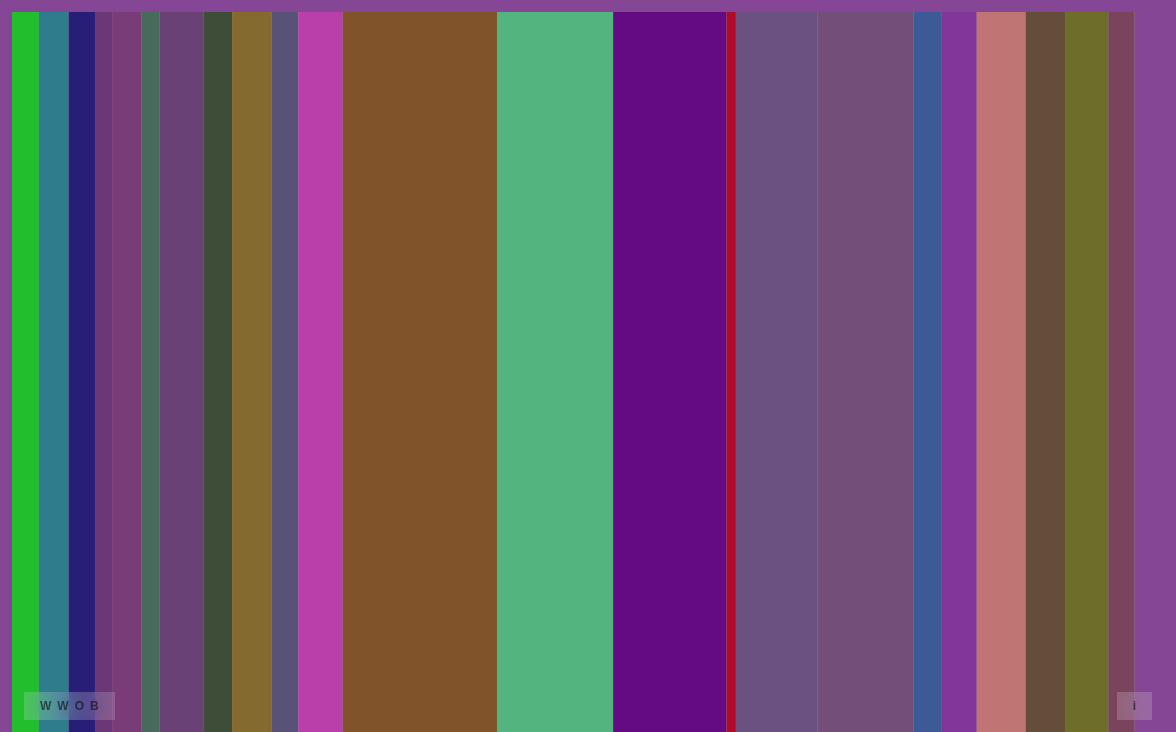
reader app › links the tour, before the run, on one line
Click the button "i": [1134, 706] box [1117,692,1152,720]
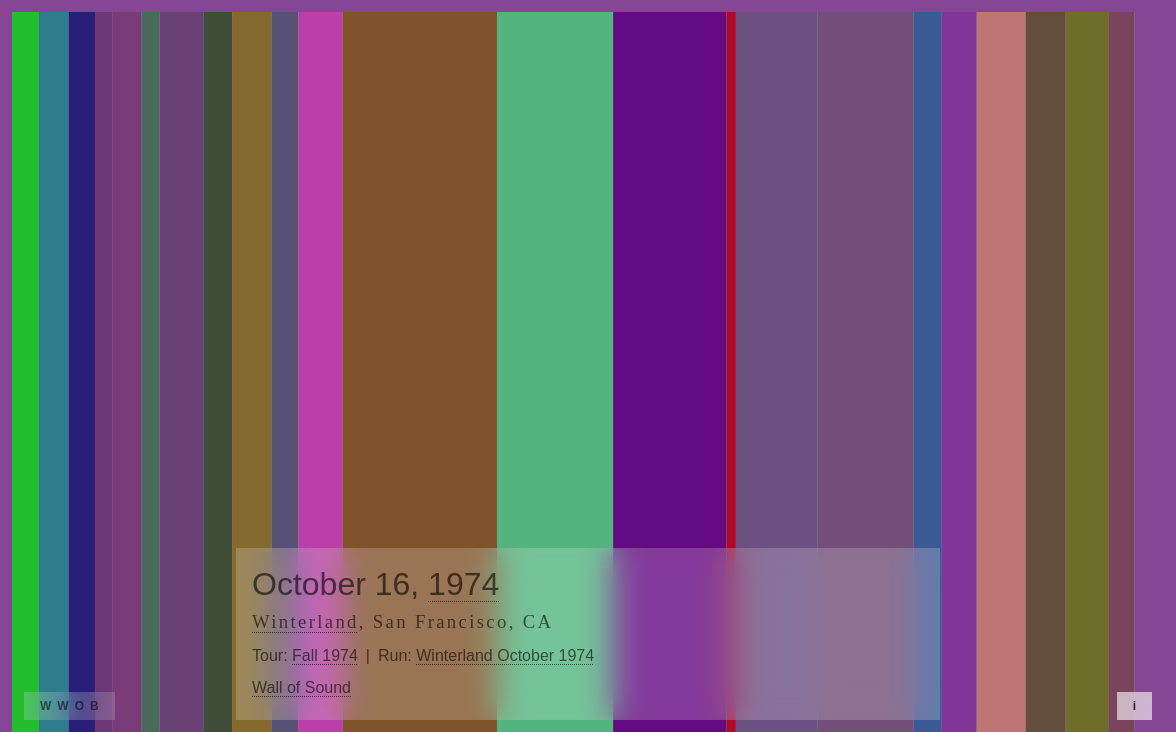
Result: the element with class "Show-meta" reads "Tour: Fall 1974 Run: Winterland October 1974" at [252,647,594,664]
